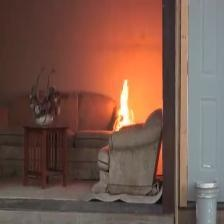fire: (112, 74, 141, 119)
